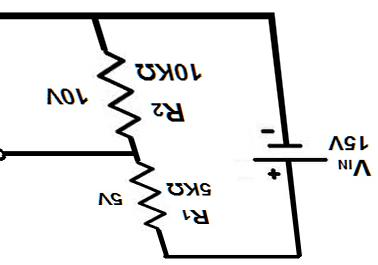resistor: (94, 48, 129, 147), (122, 161, 170, 233)
